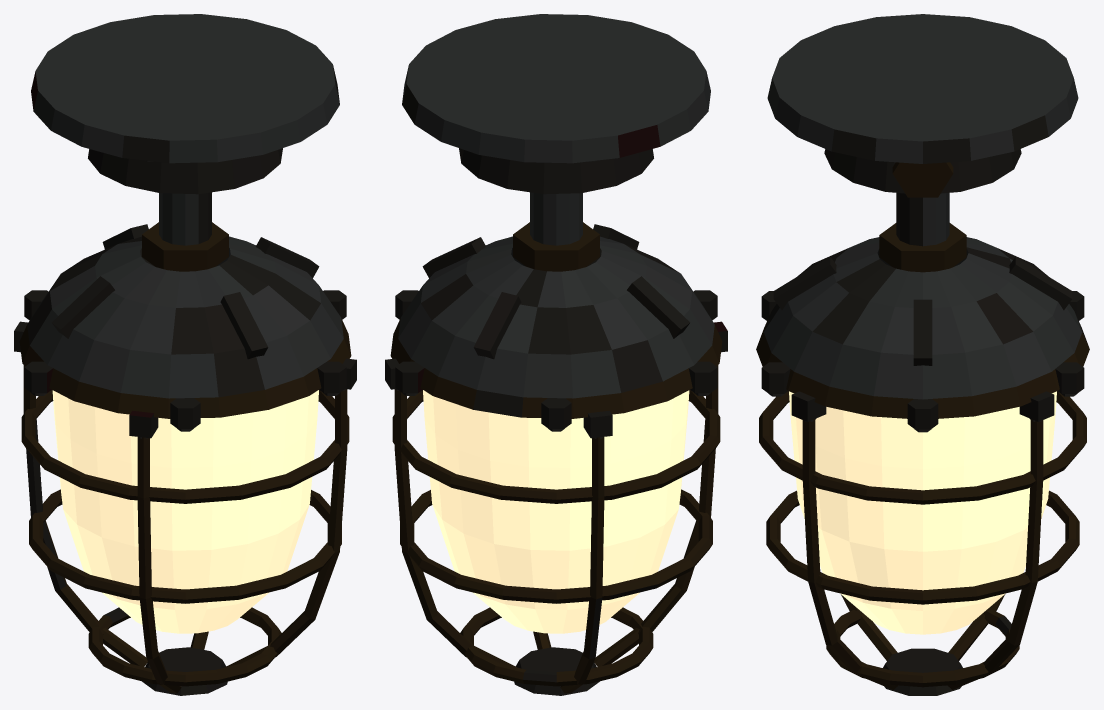
The model's file is ceiling_light.fbx.
The picture shows the model from 3 angles, left to right: view 1: azimuth 30°, elevation 25°; view 2: azimuth 150°, elevation 25°; view 3: azimuth 270°, elevation 25°; orthographic projection.
Visible parts, largest first — view 1: MaritimeCeilingLight; view 2: MaritimeCeilingLight; view 3: MaritimeCeilingLight.
Part boxes in pixels (bbox=[...]): MaritimeCeilingLight: bbox=[14, 14, 356, 695]; MaritimeCeilingLight: bbox=[385, 14, 727, 695]; MaritimeCeilingLight: bbox=[756, 14, 1089, 695].
Bounding box in the file's own units: 19.19 × 34.9 × 17.6.
